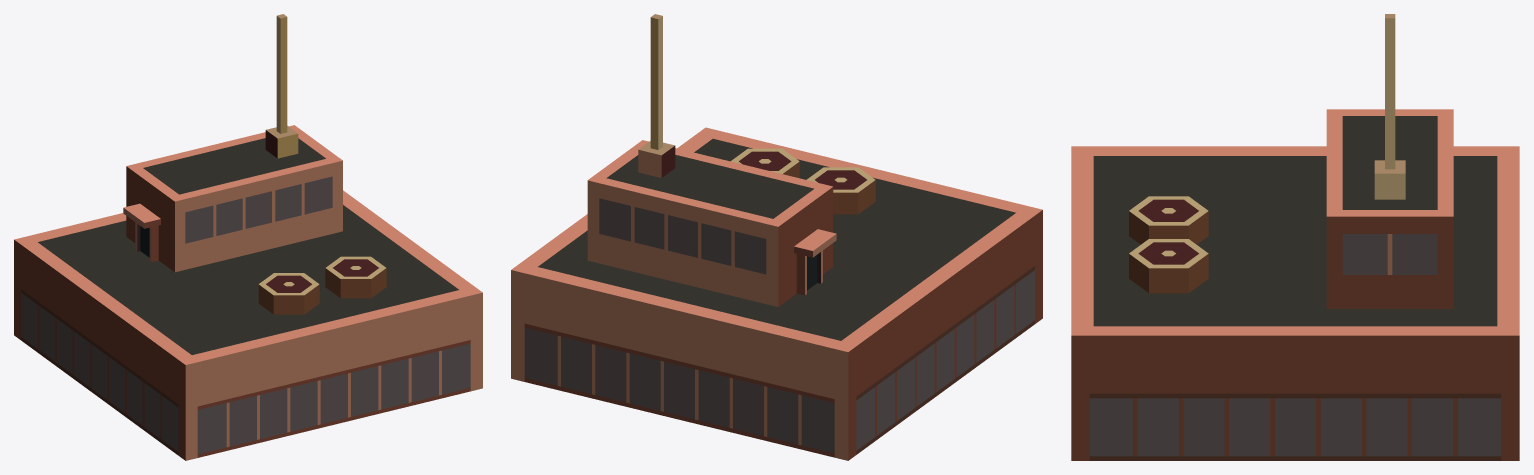
The model's file is TB_CITY_Skysc_N_Top_Brown.FBX.
The picture shows the model from 3 angles, left to right: view 1: azimuth 30°, elevation 25°; view 2: azimuth 150°, elevation 25°; view 3: azimuth 270°, elevation 25°; orthographic projection. The views are drawn at different scales.
Visible parts, largest first — view 1: TB_CITY_Skysc_N_Top_Brown; view 2: TB_CITY_Skysc_N_Top_Brown; view 3: TB_CITY_Skysc_N_Top_Brown.
Boxes of the visible parts, box(x1,y1,x2,y2) form: TB_CITY_Skysc_N_Top_Brown: box(14, 14, 482, 460); TB_CITY_Skysc_N_Top_Brown: box(511, 14, 1042, 460); TB_CITY_Skysc_N_Top_Brown: box(1071, 14, 1519, 460).
Size of the model in its own units: 14.94 by 14.51 by 14.94.
